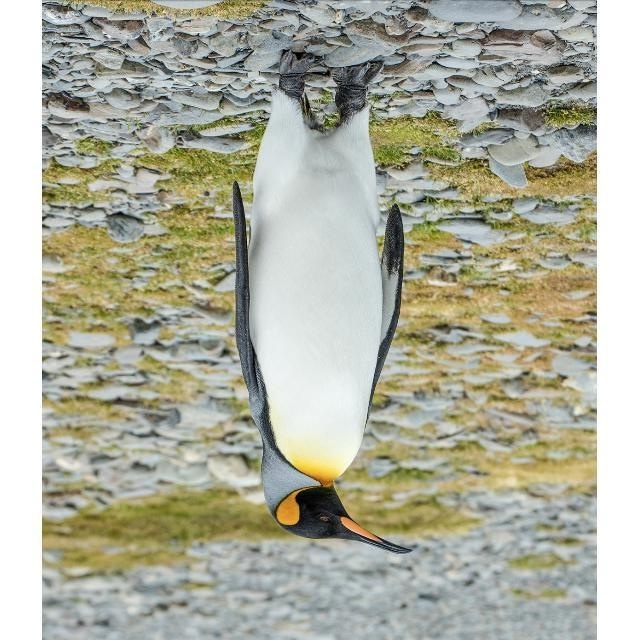penguin: (230, 51, 414, 556)
